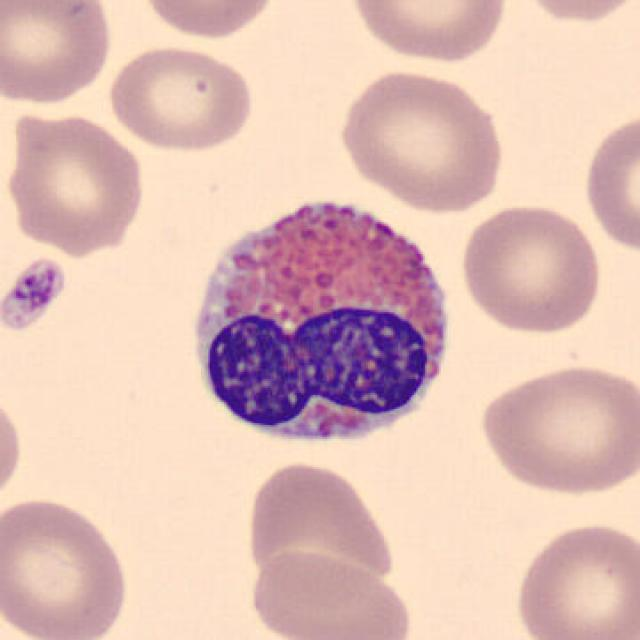Eosinophil: (172, 176, 464, 462)
Platelets: (0, 255, 69, 333)
RBC: (334, 65, 510, 214), (473, 358, 638, 499), (2, 106, 148, 257), (242, 457, 398, 596), (455, 199, 605, 337), (0, 492, 133, 640), (103, 41, 258, 155), (244, 545, 416, 640), (508, 516, 638, 640), (0, 0, 117, 107), (345, 0, 512, 65), (579, 107, 640, 257), (135, 0, 282, 42), (508, 0, 640, 28), (0, 386, 27, 513)
